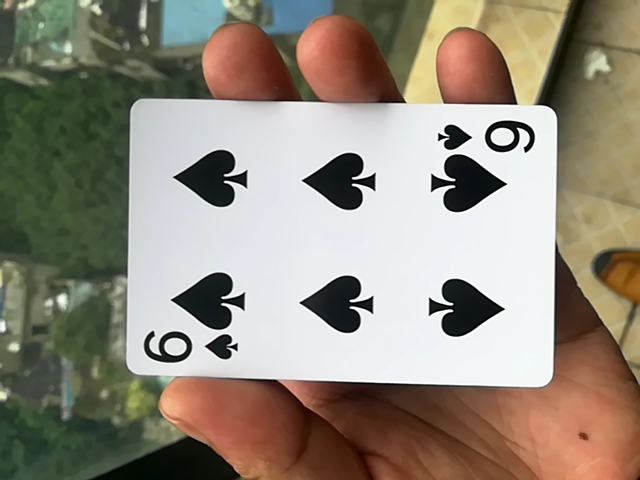ht 6: (117, 100, 553, 393)
